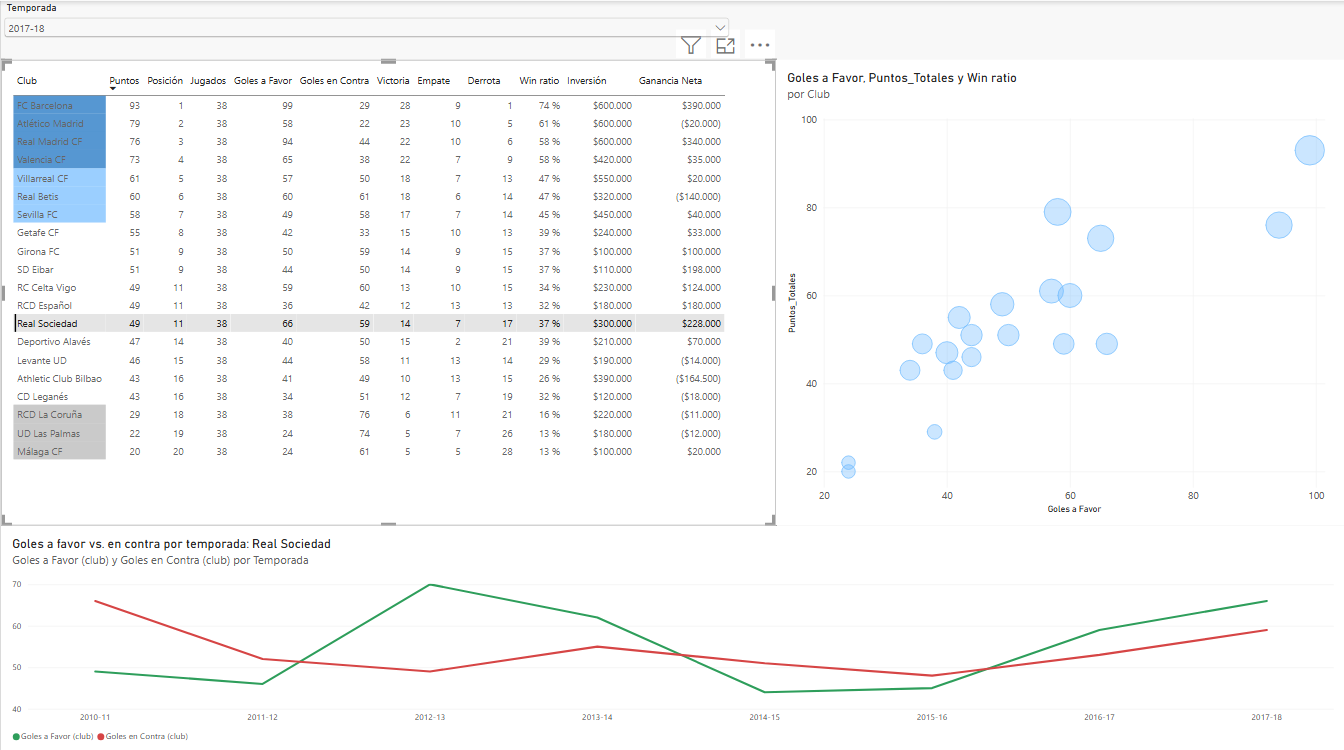

The page's visual inventory and layout, read from the dashboard file:
{"tool":"powerbi","page":{"name":"Página 1","canvas":[1920,1080],"ordinal":0},"visuals":[{"type":"tableEx","fields":{"Values":["Equipos.Club","Files.Puntos_Totales","Files.Posición","Files.Partidos Jugados","Files.Goles a Favor","Files.Goles en Contra","Files.Partidos Ganados","Files.Partidos Empatados","Files.Partidos Perdidos","Files.Win ratio","Sum(inversiones.Inversion requerida)","Files.Ganancia Neta"]},"box":[0,84.5,1107.9,665.1],"z":0},{"type":"slicer","fields":{"Values":["Files.Temporada"]},"box":[0,0,1045.3,85.3],"z":1000},{"type":"lineChart","fields":{"Category":["Files.Temporada"],"Y":["Files.Goles a Favor (club)","Files.Goles en Contra (club)"]},"box":[0,750.1,1920,330.2],"z":3000},{"type":"scatterChart","fields":{"Category":["Equipos.Club"],"Size":["Files.Win ratio"],"X":["Files.Goles a Favor"],"Y":["Files.Puntos_Totales"]},"box":[1107.9,84.5,812.1,665.1],"z":4000}]}

Visuals, with their boxes in screenshot pixels (x1, y1, x2, y2), scaled from the page's 1920x1080 canvas onto the 1344x750 screenshot:
tableEx - Equipos.Club x Files.Puntos_Totales: [x1=0, y1=59, x2=776, y2=521]
slicer - Files.Temporada: [x1=0, y1=0, x2=732, y2=59]
lineChart - Files.Temporada x Files.Goles a Favor (club): [x1=0, y1=521, x2=1343, y2=749]
scatterChart - Equipos.Club x Files.Win ratio: [x1=776, y1=59, x2=1343, y2=521]
